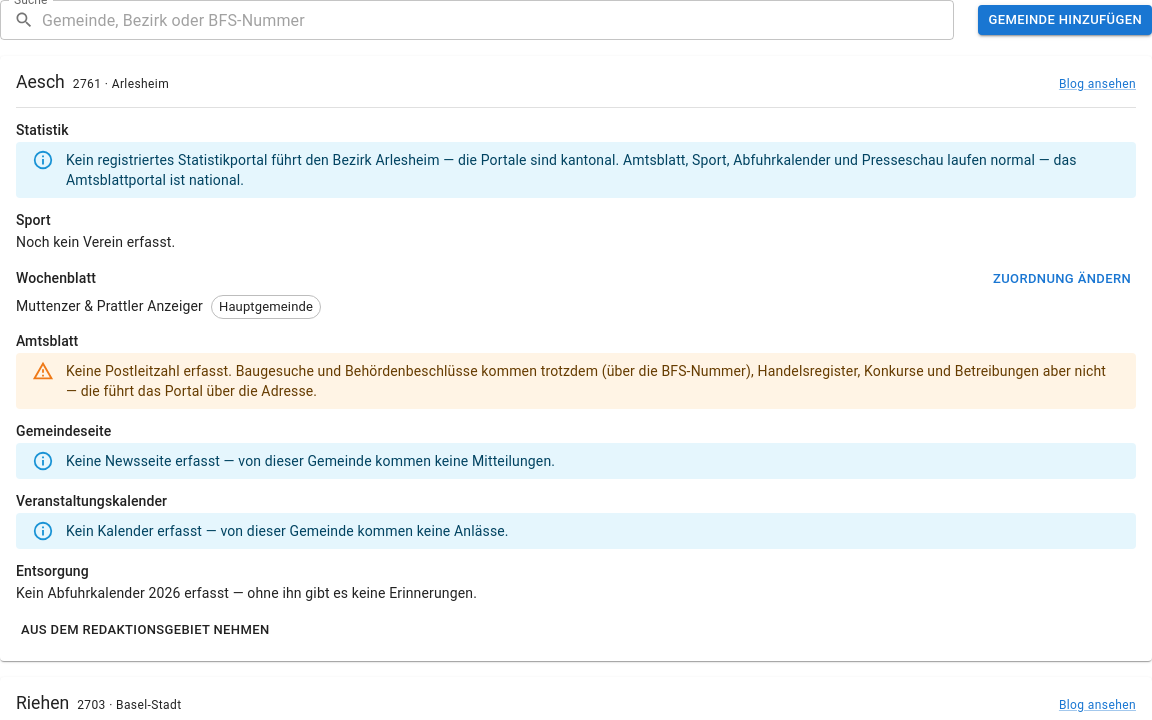
Scenario: GemeindenAuswahl › laesst die Hauptgemeinde nicht loesen
The image size is (1152, 720).
Click the button "Zuordnung ändern".
click(1062, 279)  # box [988,264,1136,295]
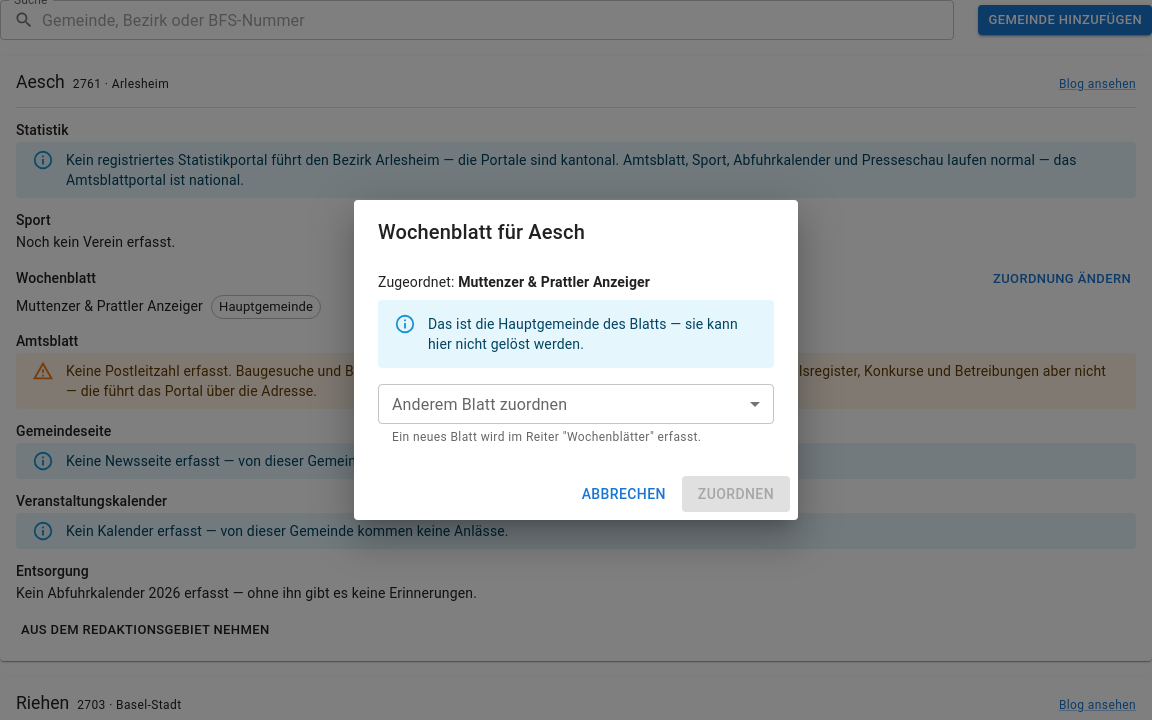
Now the text "Hauptgemeinde des Blatts" is shown, box [428,316,738,352]
